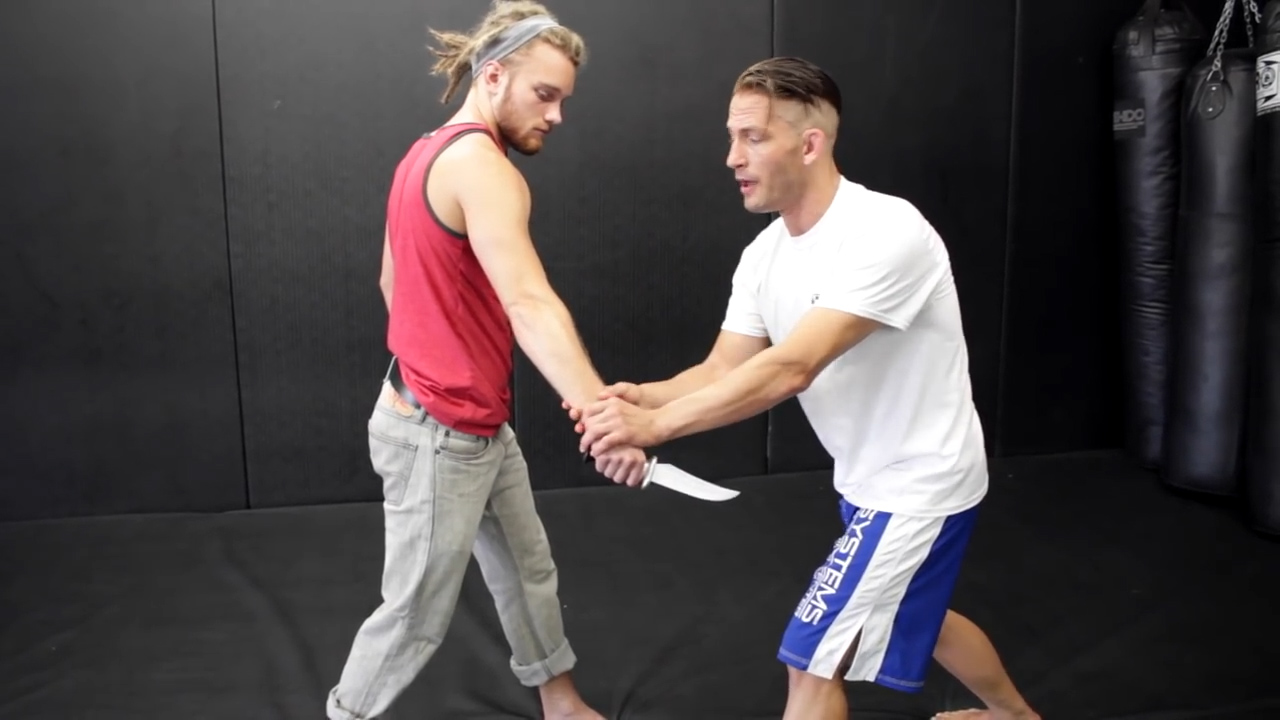knife: (578, 445, 750, 516)
